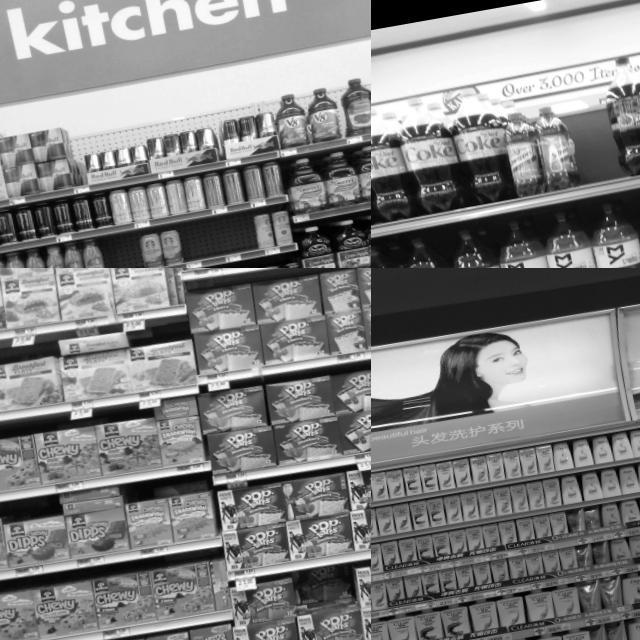Imprecise: (294, 561, 359, 640)
